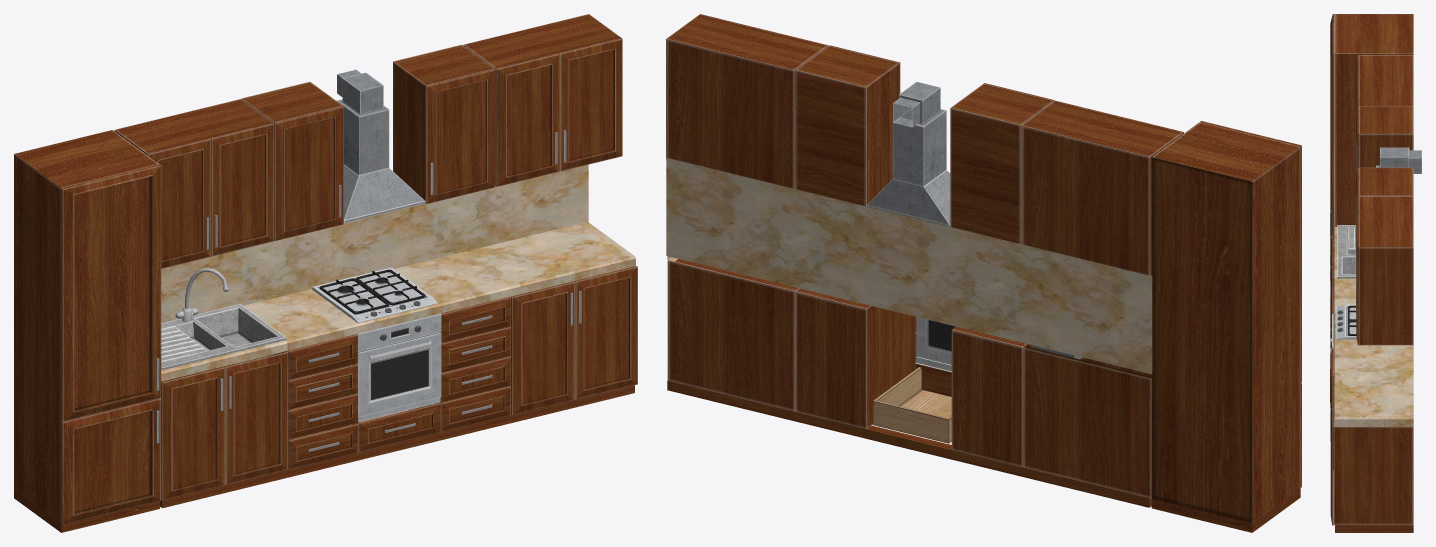
Rendered from kitchen.glb.
3 views of the same model, side by side, from view 1: azimuth 30°, elevation 25°; view 2: azimuth 150°, elevation 25°; view 3: azimuth 270°, elevation 25° (orthographic). The views are drawn at different scales.
Parts seen in each view (by area): view 1: Table, Cupboard_Big_door_upper, Cupboard_Big, Cupboard_Big_door_lower, Cupboard_Upper_02_Door, Cupboard_Upper_03_Door, Cupboard_Lower_02_Door_L, Cupboard_Upper_01_Door_L, Cupboard_Lower_01_Door_L, Cupboard_Upper_01_Door_R, Air_Vent, Cupboard_Lower_01_Door_R (+20 smaller); view 2: Cupboard_Big, Table, Cupboard_Upper_04, Cupboard_Upper_01, Cupboard_Lower_01, Cupboard_Lower_02, Cupboard_Upper_02, Drawer_01_Body, Cupboard_Upper_03, Drawer_02_Body, Air_Vent, Basement (+2 smaller); view 3: Cupboard_Upper_01, Cupboard_Lower_01, Table, Cupboard_Big, Cupboard_Upper_04, Cupboard_Upper_03, Cupboard_Upper_02, Cupboard_Big_door_upper, Syphon, Air_Vent, Cooktop, Basement (+5 smaller).
Boxes of the visible parts, x1,y1,x2,y2 form: Table: [161, 164, 635, 381]; Cupboard_Big_door_upper: [61, 164, 161, 421]; Cupboard_Big: [14, 130, 159, 532]; Cupboard_Big_door_lower: [61, 398, 161, 524]; Cupboard_Upper_02_Door: [425, 68, 495, 203]; Cupboard_Upper_03_Door: [273, 105, 343, 240]; Cupboard_Lower_02_Door_L: [161, 367, 225, 500]; Cupboard_Upper_01_Door_L: [496, 53, 559, 186]; Cupboard_Lower_01_Door_L: [511, 281, 574, 414]; Cupboard_Upper_01_Door_R: [559, 38, 622, 171]; Air_Vent: [337, 69, 425, 223]; Cupboard_Lower_01_Door_R: [574, 266, 637, 399]; Cupboard_Big: [1151, 122, 1300, 532]; Table: [666, 158, 1152, 374]; Cupboard_Upper_04: [1021, 101, 1182, 275]; Cupboard_Upper_01: [666, 14, 827, 189]; Cupboard_Lower_01: [667, 259, 799, 411]; Cupboard_Lower_02: [1022, 344, 1151, 498]; Cupboard_Upper_02: [795, 46, 899, 206]; Drawer_01_Body: [795, 288, 915, 429]; Cupboard_Upper_03: [950, 83, 1054, 243]; Drawer_02_Body: [951, 326, 1026, 467]; Air_Vent: [866, 81, 950, 226]; Basement: [667, 380, 1151, 507]; Cupboard_Upper_01: [1359, 196, 1413, 345]; Cupboard_Lower_01: [1334, 427, 1413, 524]; Table: [1333, 227, 1413, 426]; Cupboard_Big: [1335, 14, 1413, 226]; Cupboard_Upper_04: [1359, 55, 1413, 105]; Cupboard_Upper_03: [1359, 106, 1413, 167]; Cupboard_Upper_02: [1359, 167, 1413, 196]; Cupboard_Big_door_upper: [1330, 14, 1334, 239]; Syphon: [1337, 225, 1356, 278]; Air_Vent: [1376, 147, 1421, 173]; Cooktop: [1336, 304, 1356, 339]; Basement: [1335, 525, 1413, 532].
Size of the model in its own units: 362 by 207 by 60.12.
16 materials, 16 textured.
